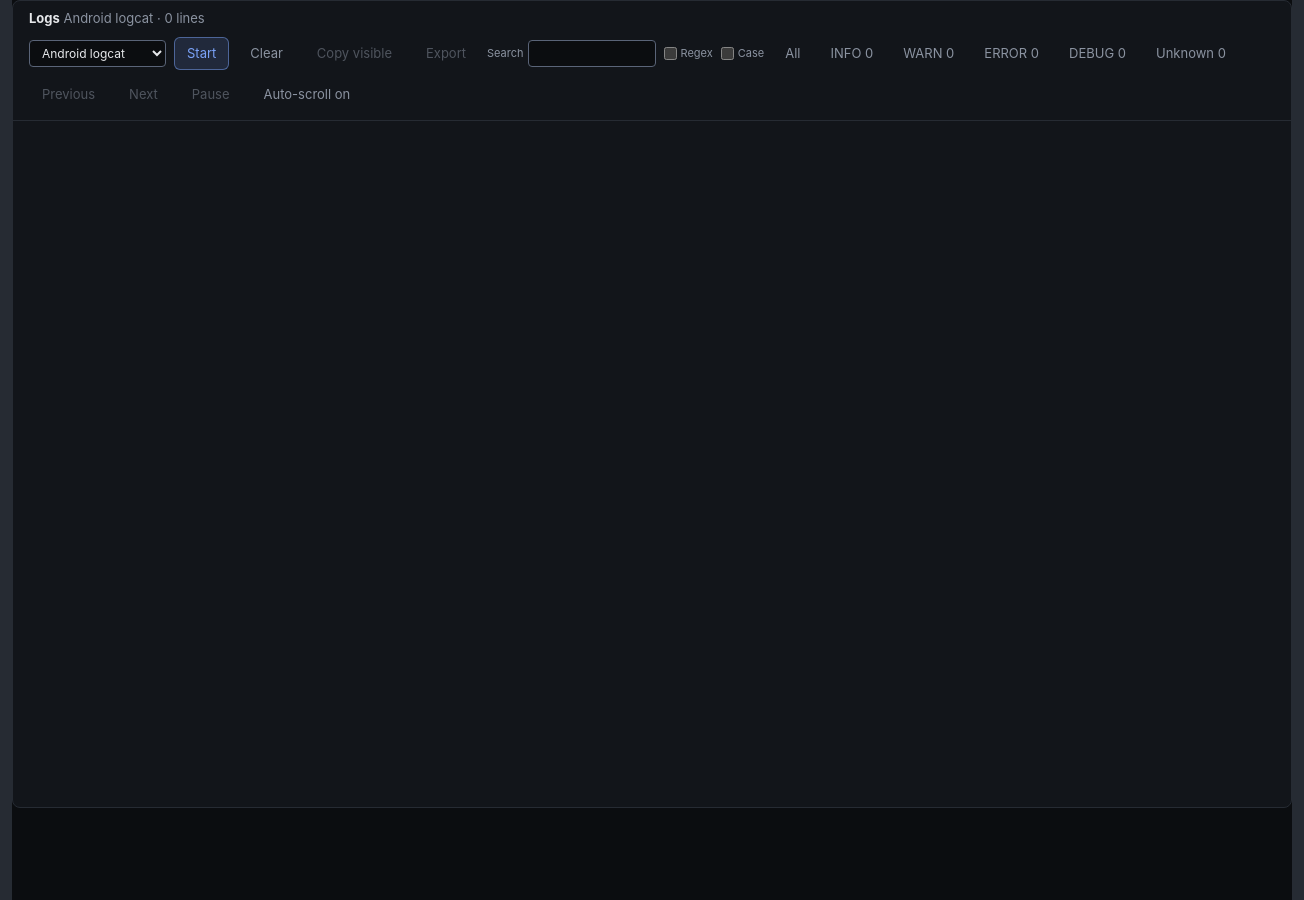
Scenario: LogsView › buffers incoming lines while paused and resumes at the latest line
This screenshot has width=1304, height=900.
Click the button "Start". click: (202,53)
box: [174,36,229,70]
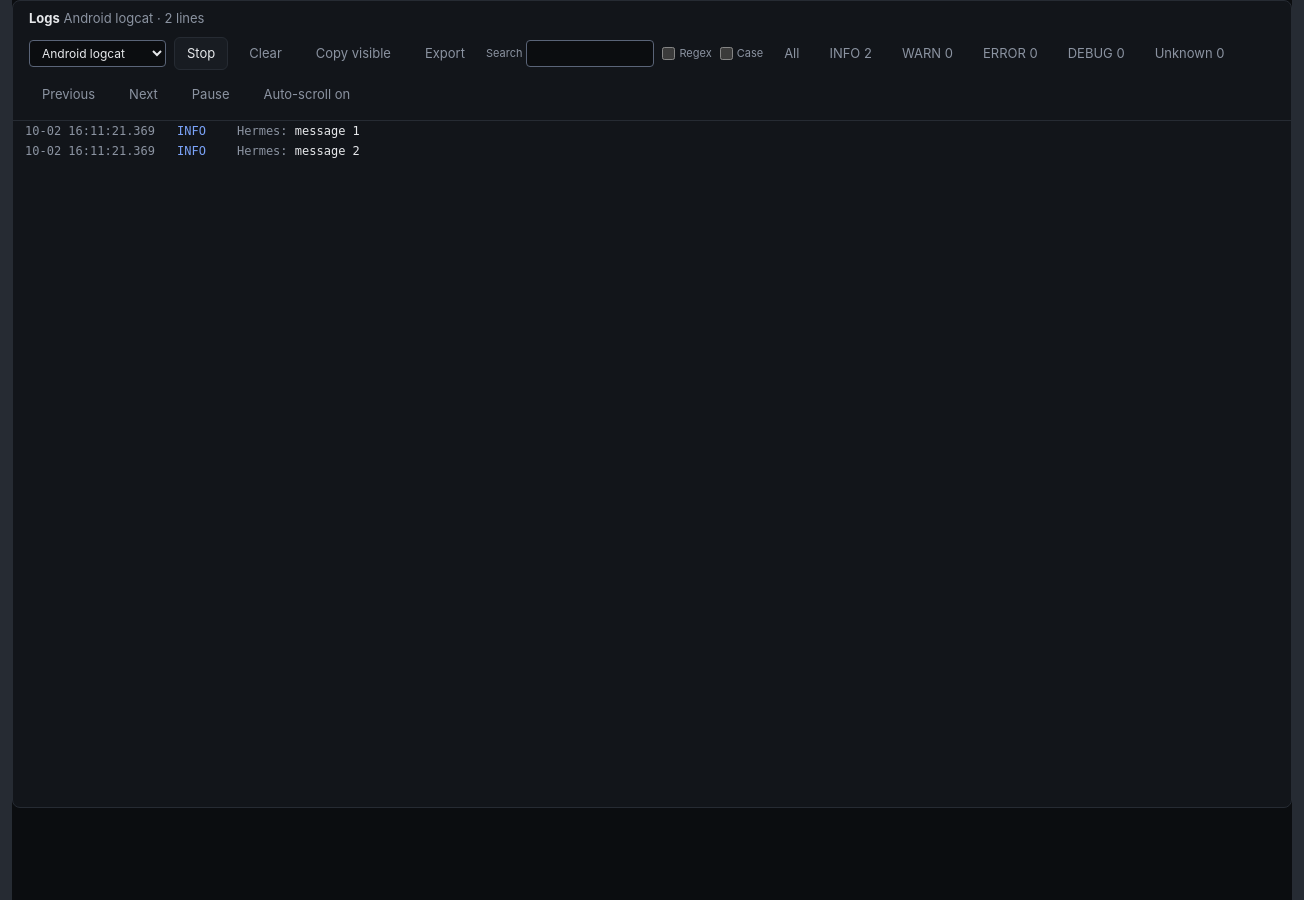
Result: the text "message 2" is shown at [295,144,360,158]
Click the button "Pause". click: (211,95)
box: [179,78,242,112]
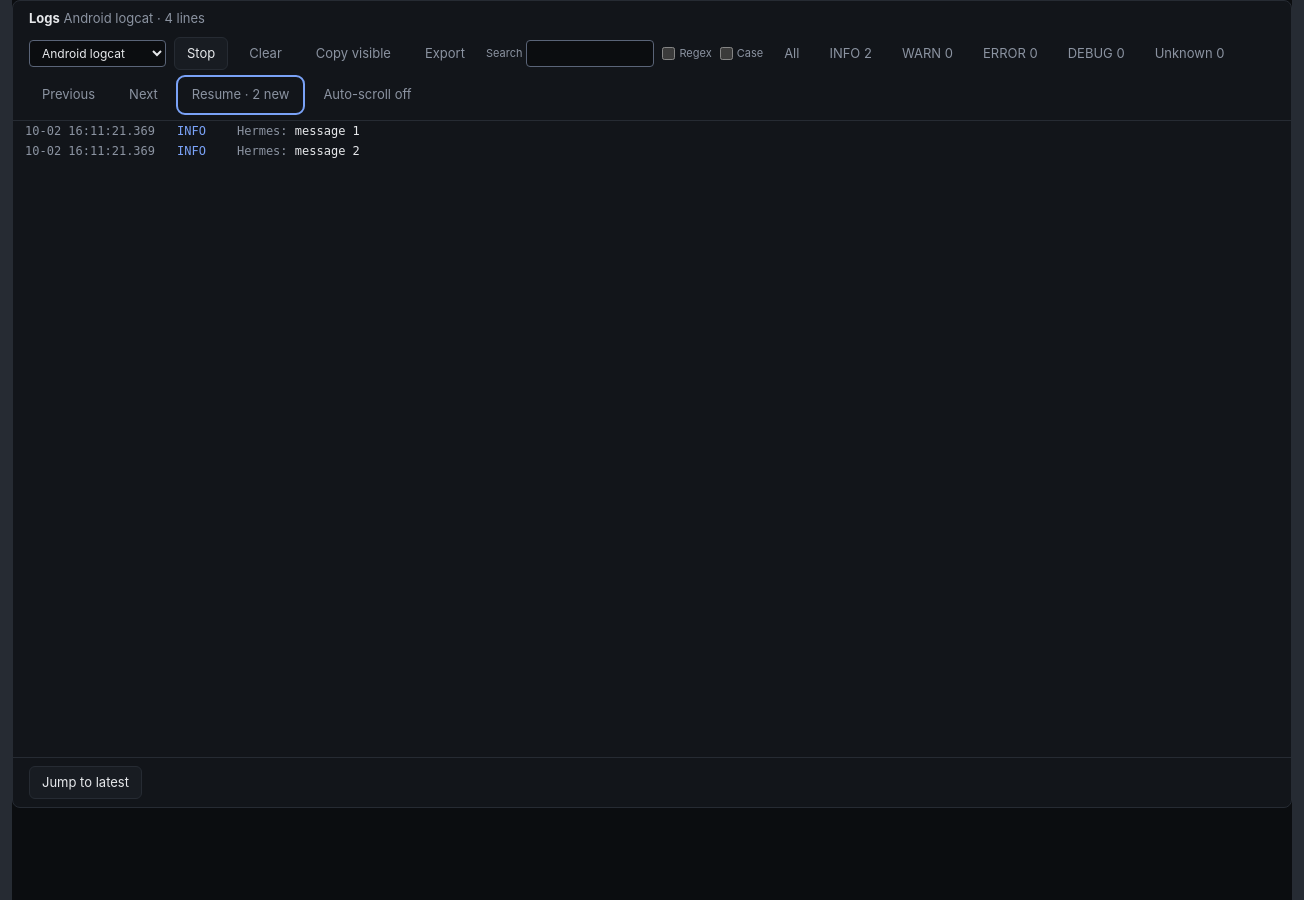
Expected: the text "message 3" is not shown
Result: the text "message 2" is shown at [295,144,360,158]
Result: the text "Android logcat · 4 lines" is shown at [64,10,205,26]
Click the button "Resume · 2 new". click: (241,95)
box: [179,78,302,112]
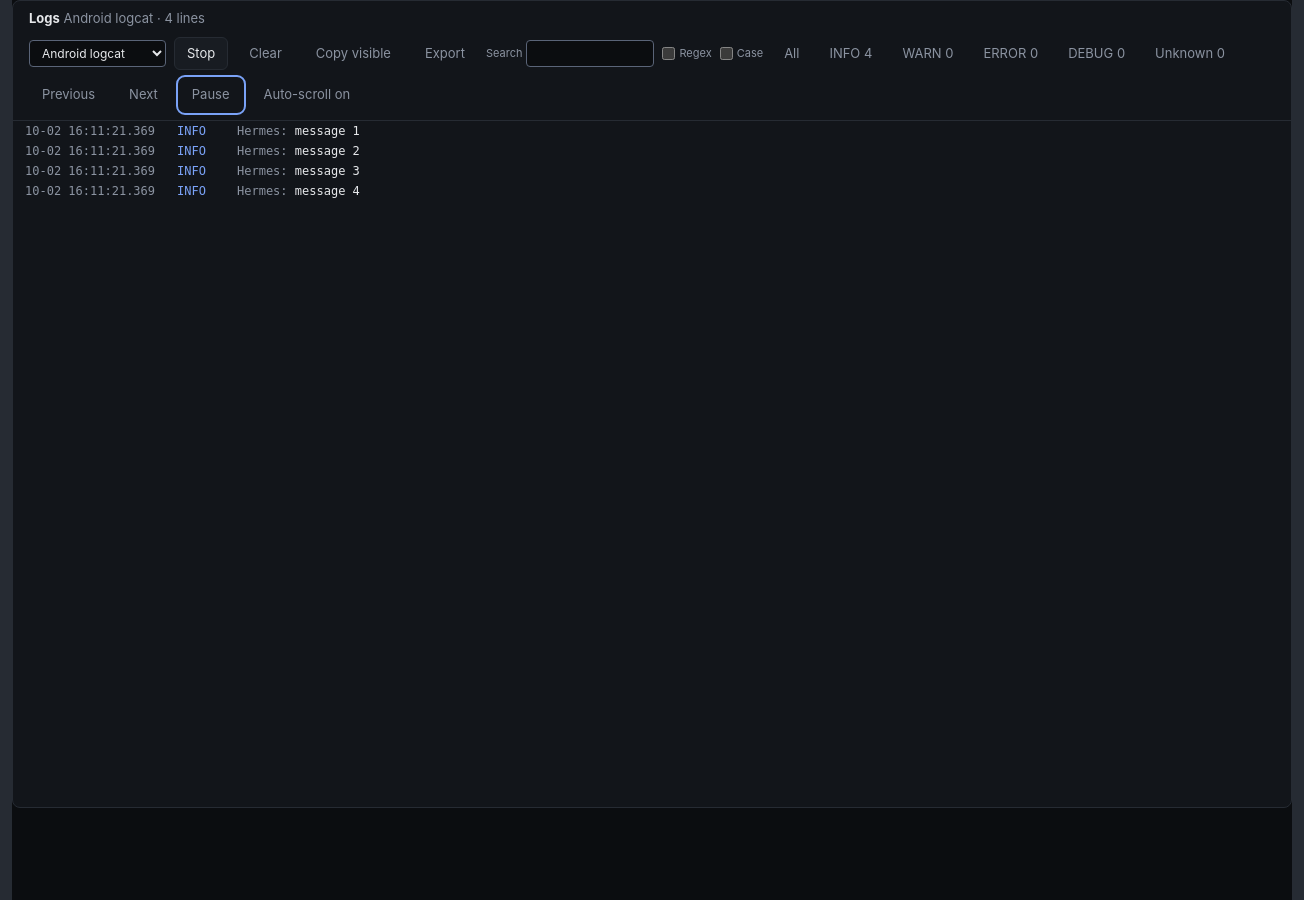
Result: the text "message 4" is shown at [295,184,360,198]
